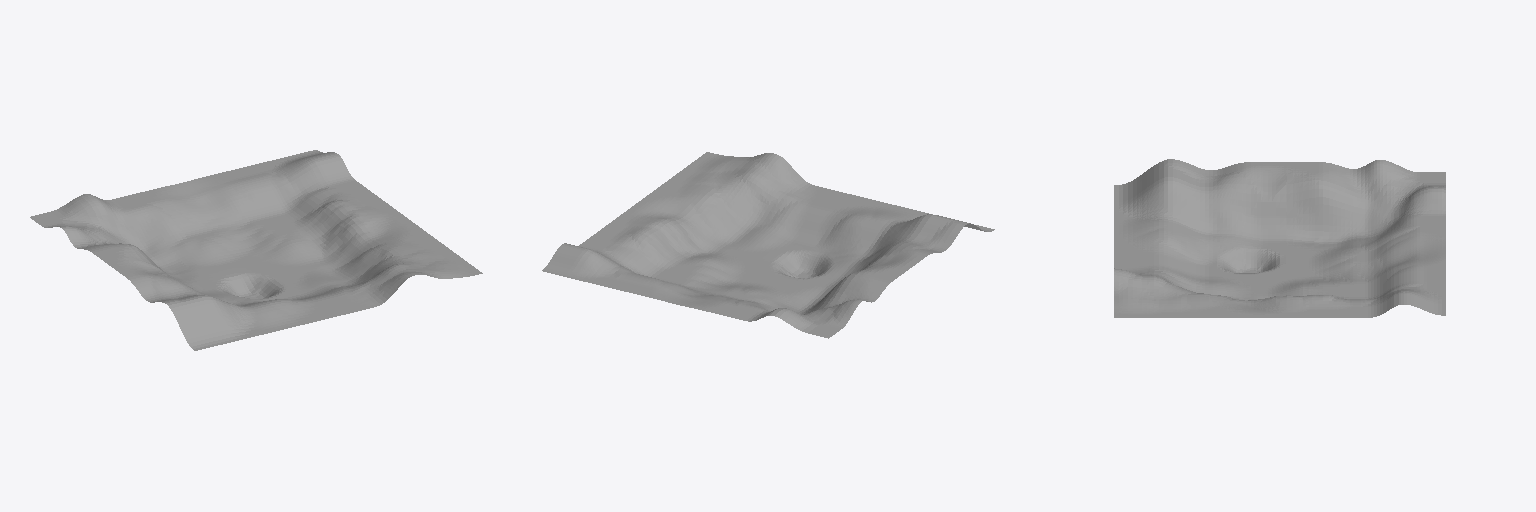
Rendered from terrain.obj.
3 views of the same model, side by side, from view 1: azimuth 30°, elevation 25°; view 2: azimuth 150°, elevation 25°; view 3: azimuth 270°, elevation 25° (orthographic).
Parts seen in each view (by area): view 1: pPlane1; view 2: pPlane1; view 3: pPlane1.
Boxes of the visible parts, <box> form: pPlane1: <box>30,150,482,350</box>; pPlane1: <box>542,152,994,338</box>; pPlane1: <box>1114,159,1445,317</box>.
Bounding box in the file's own units: 30 × 5.31 × 30.